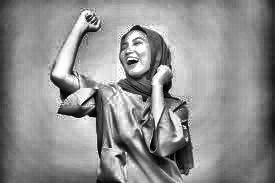happy: (118, 26, 169, 85)
